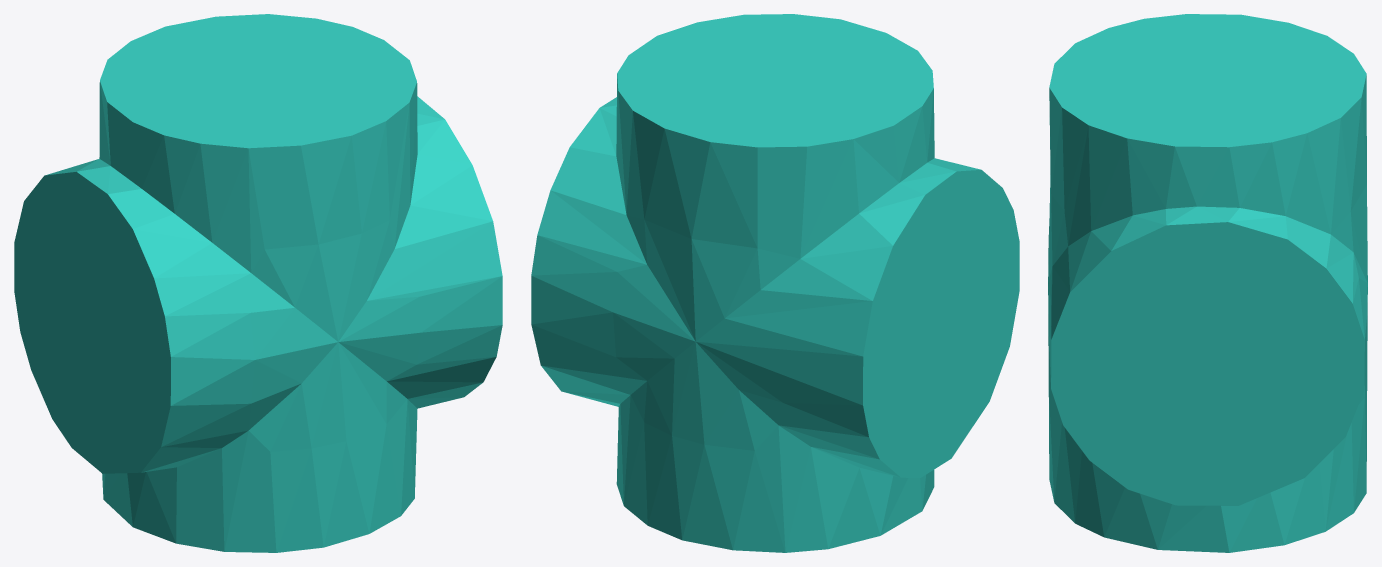
The model's file is hip_motor_link_sinister_collision.obj.
The picture shows the model from 3 angles, left to right: view 1: azimuth 30°, elevation 25°; view 2: azimuth 150°, elevation 25°; view 3: azimuth 270°, elevation 25°; orthographic projection.
Visible parts, largest first — view 1: Body1; view 2: Body1; view 3: Body1.
Part boxes in pixels (left/top/right/bottom): Body1: left=14, top=14, right=502, bottom=552; Body1: left=531, top=14, right=1019, bottom=552; Body1: left=1048, top=14, right=1367, bottom=552.
Bounding box in the file's own units: 12 × 14 × 10.
